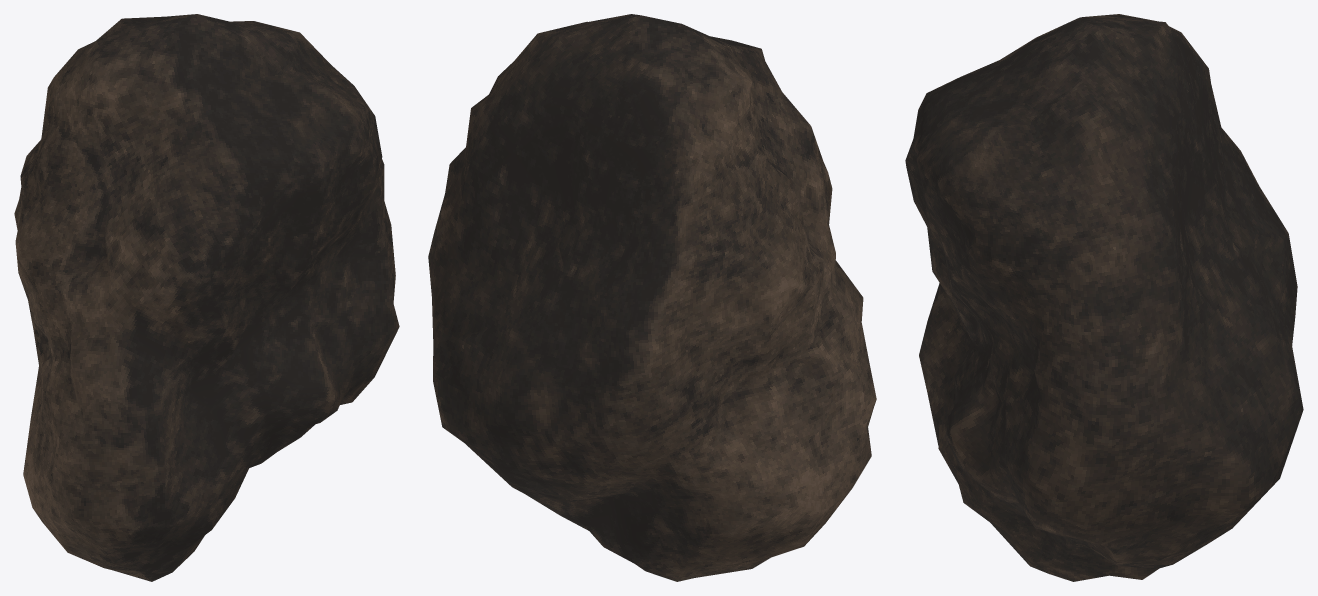
File: SM_RP2_Rock_4m_9.002.glb
The picture shows the model from 3 angles, left to right: view 1: azimuth 30°, elevation 25°; view 2: azimuth 150°, elevation 25°; view 3: azimuth 270°, elevation 25°; orthographic projection. The views are drawn at different scales.
Parts seen in each view (by area): view 1: SM_RP2_Rock_4m_9.002; view 2: SM_RP2_Rock_4m_9.002; view 3: SM_RP2_Rock_4m_9.002.
Boxes of the visible parts, x1,y1,x2,y2 form: SM_RP2_Rock_4m_9.002: (14, 14, 399, 581); SM_RP2_Rock_4m_9.002: (428, 14, 876, 581); SM_RP2_Rock_4m_9.002: (905, 14, 1303, 581).
Bounding box in the file's own units: 5.08 × 6.94 × 4.3.
Materials: 1 (1 with a texture image).
